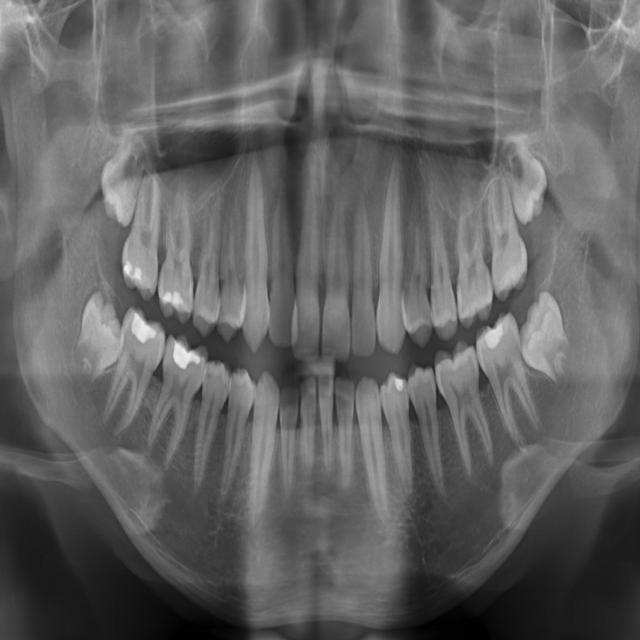CompositeResinRestoration: (174, 336, 204, 374), (132, 307, 157, 352), (122, 252, 143, 286), (161, 288, 186, 314)
DentalCaries: (218, 293, 229, 325)
